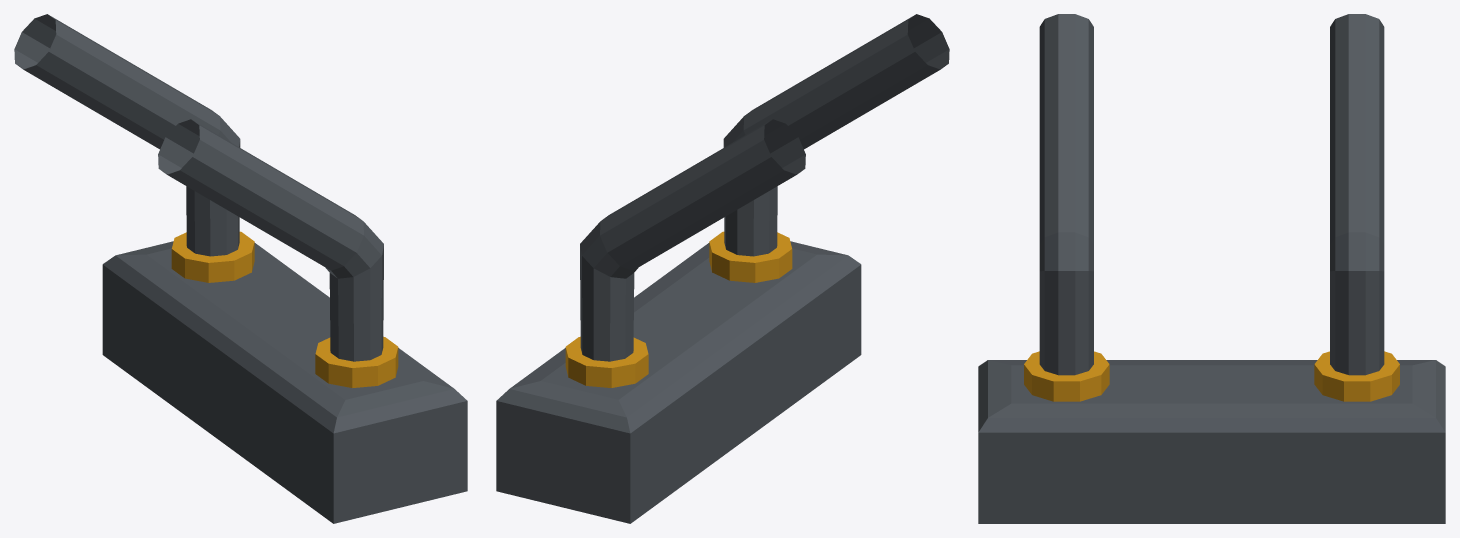
Rendered from Mothership_01_Connecting_Pipes_Yellow.fbx.
3 views of the same model, side by side, from view 1: azimuth 30°, elevation 25°; view 2: azimuth 150°, elevation 25°; view 3: azimuth 270°, elevation 25° (orthographic).
Parts seen in each view (by area): view 1: Mothership_01_Connecting_Pipes_Yellow; view 2: Mothership_01_Connecting_Pipes_Yellow; view 3: Mothership_01_Connecting_Pipes_Yellow.
Boxes of the visible parts, x1,y1,x2,y2 form: Mothership_01_Connecting_Pipes_Yellow: (14,14,467,523); Mothership_01_Connecting_Pipes_Yellow: (496,14,949,523); Mothership_01_Connecting_Pipes_Yellow: (978,14,1445,523).
Bounding box in the file's own units: 319 × 459 × 489.
1 material, 1 textured.
